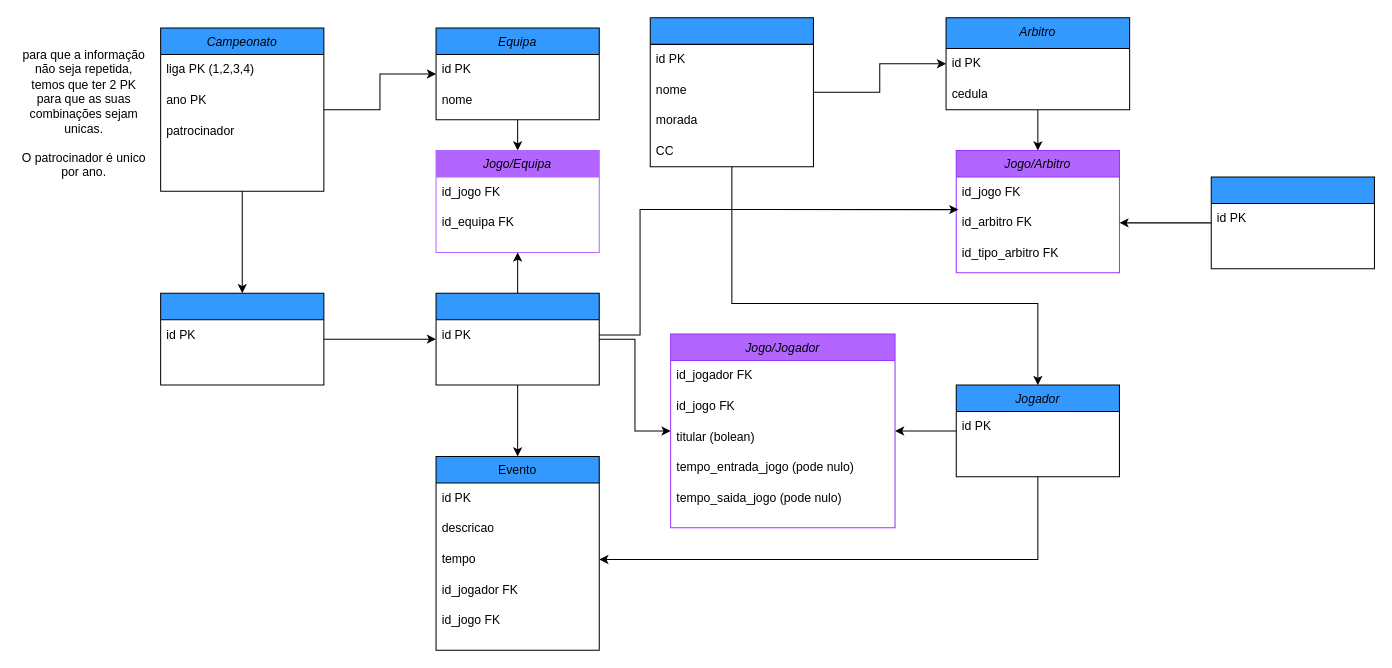
Some shapes in this 1392 by 668 pixel diagram are drawn without their labels. Here are the shapes that lost their labels. From the top down, the box of each, then its label:
(649, 17, 813, 167): Pessoa
(1210, 176, 1374, 269): TipoArbitro
(160, 292, 324, 385): Jornada
(435, 292, 599, 385): Jogo
